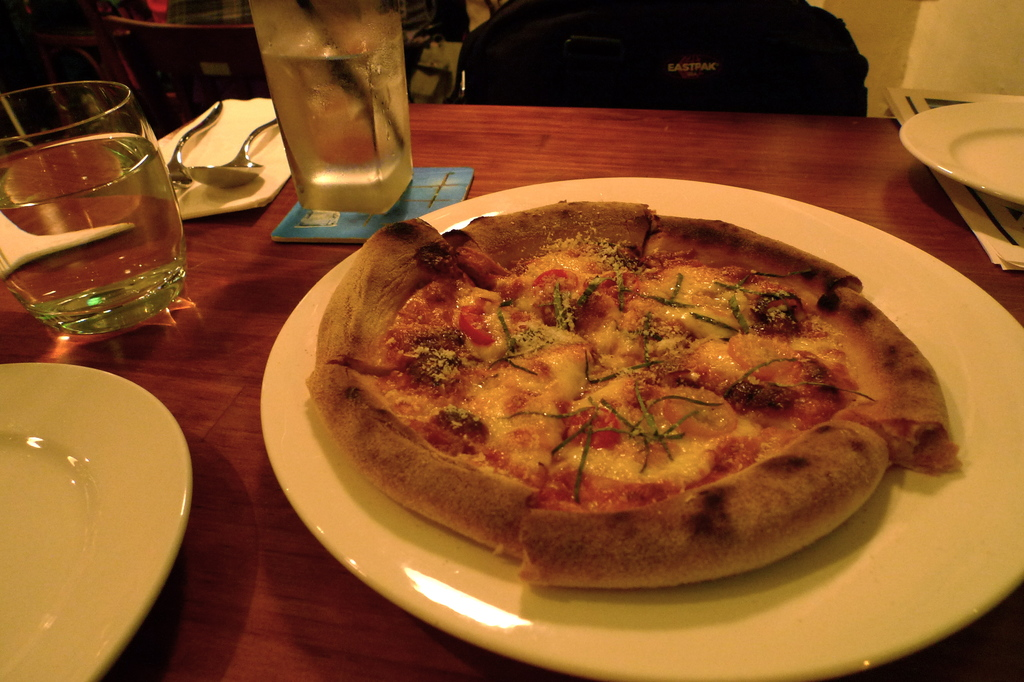Pizza: (324, 197, 934, 594)
